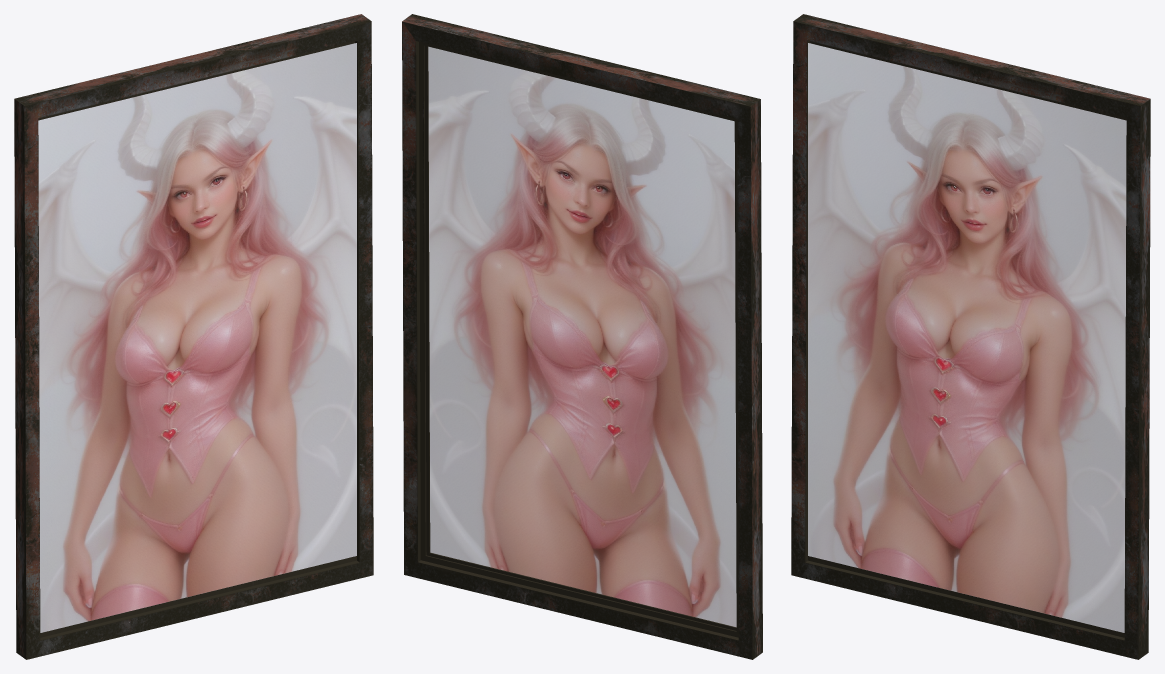
3 renders of one model, left to right at view 1: azimuth 30°, elevation 25°; view 2: azimuth 150°, elevation 25°; view 3: azimuth 330°, elevation 25°, orthographic.
Visible parts, largest first — view 1: Plane, f; view 2: Plane, f; view 3: Plane, f.
Boxes of the visible parts, x1,y1,x2,y2 form: Plane: (38,43,356,632); f: (14,14,373,659); Plane: (428,46,736,627); f: (402,14,762,659); Plane: (808,43,1126,632); f: (791,14,1150,659).
Size of the model in its own units: 0.5737 by 0.8724 by 0.0348.
Materials: 2 (2 with a texture image).
